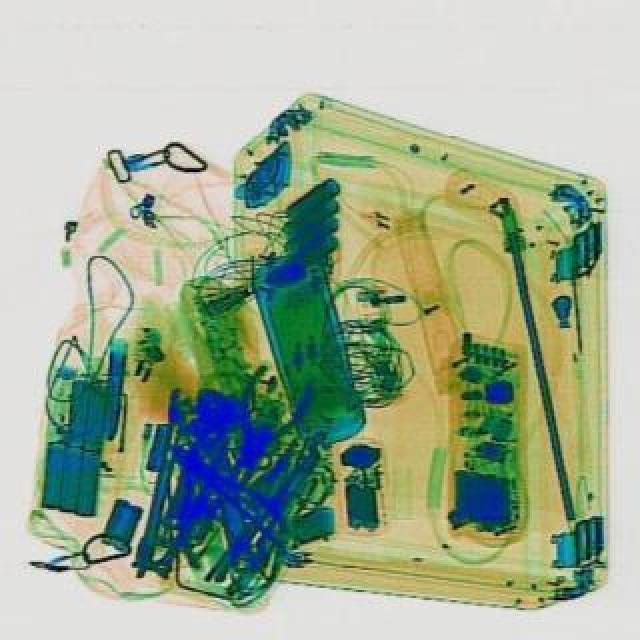wrench: (198, 358, 320, 506)
